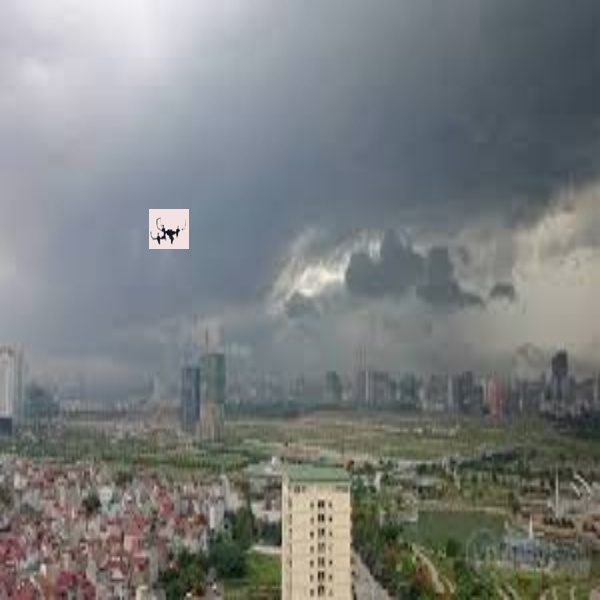drone: (149, 204, 190, 251)
